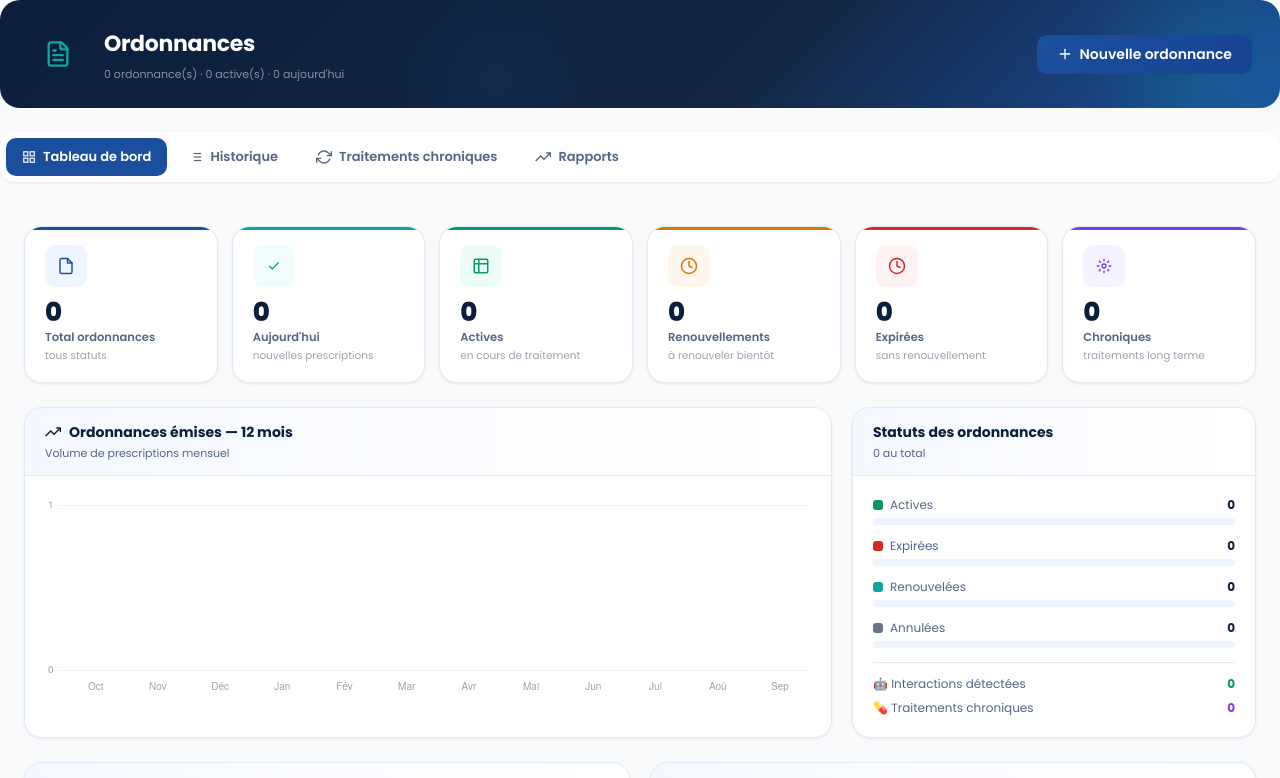
Scenario: un infirmier voit également l'onglet "Pharmacie" (accès backend déjà existant, inchangé)
This screenshot has width=1280, height=778.
Click the button "Historique": {"x": 234, "y": 157} x1=173 y1=138 x2=294 y2=176
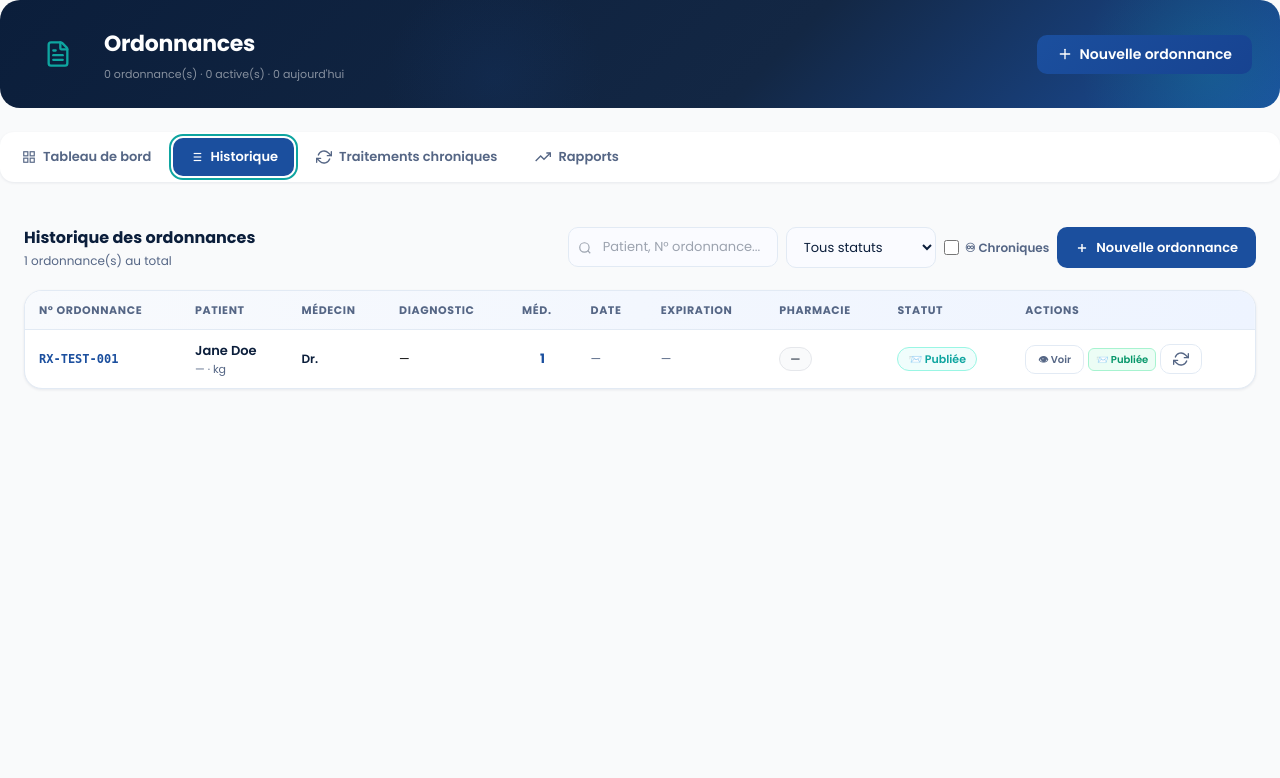
Click the button titled "Voir l'ordonnance": {"x": 1055, "y": 359} x1=1025 y1=344 x2=1084 y2=374
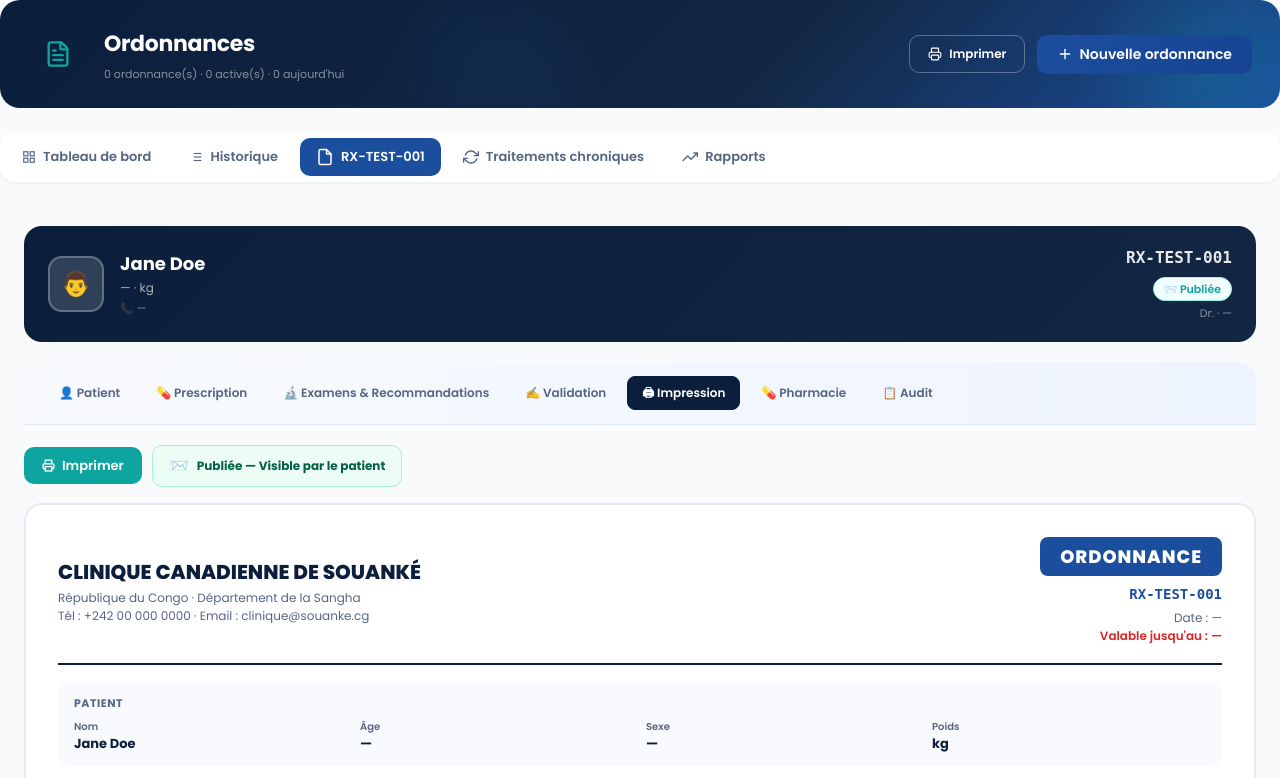
Result: the button "💊 Pharmacie" is shown at x1=746 y1=376 x2=861 y2=410
